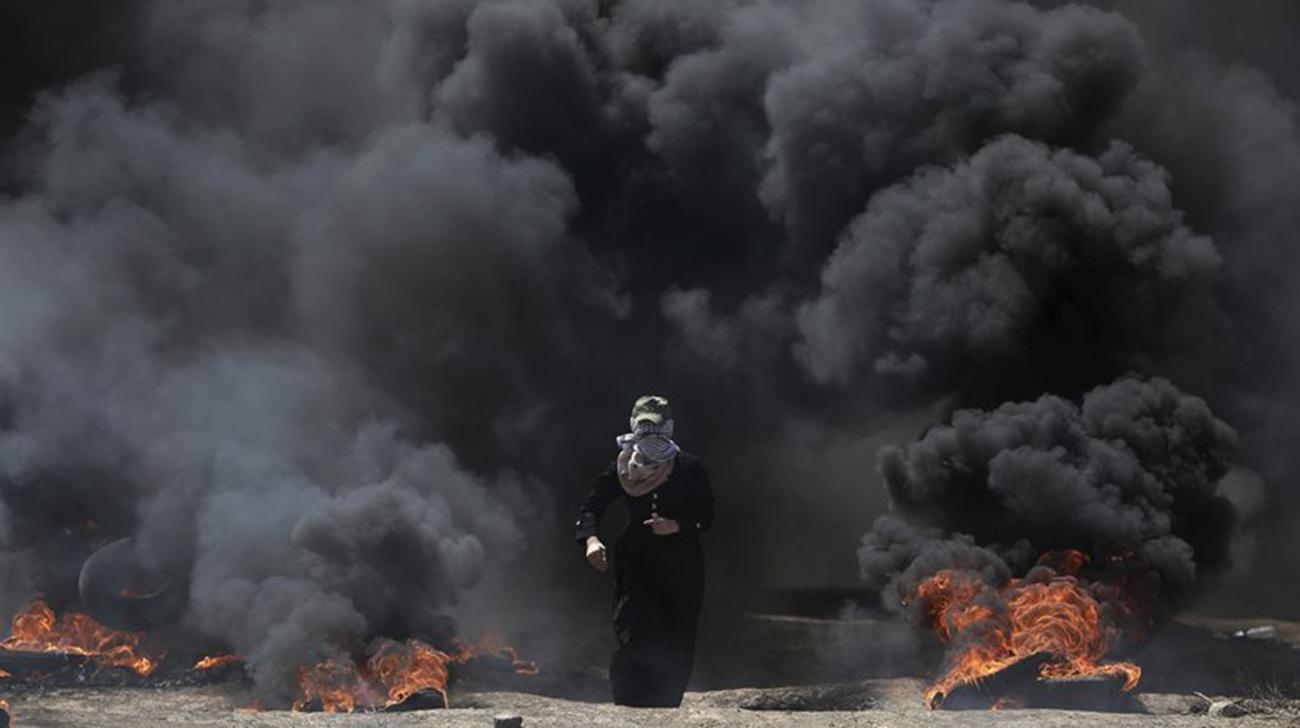fire: (17, 568, 505, 710), (874, 549, 1165, 721)
